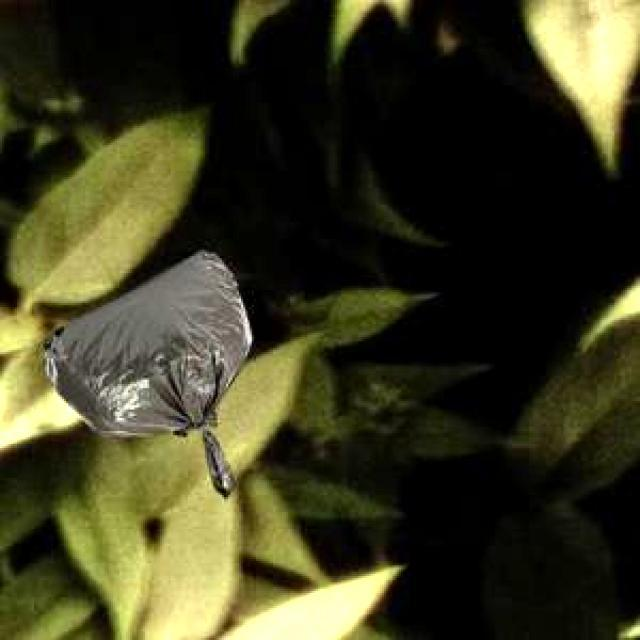Garbage_Bag: (40, 248, 248, 496)
